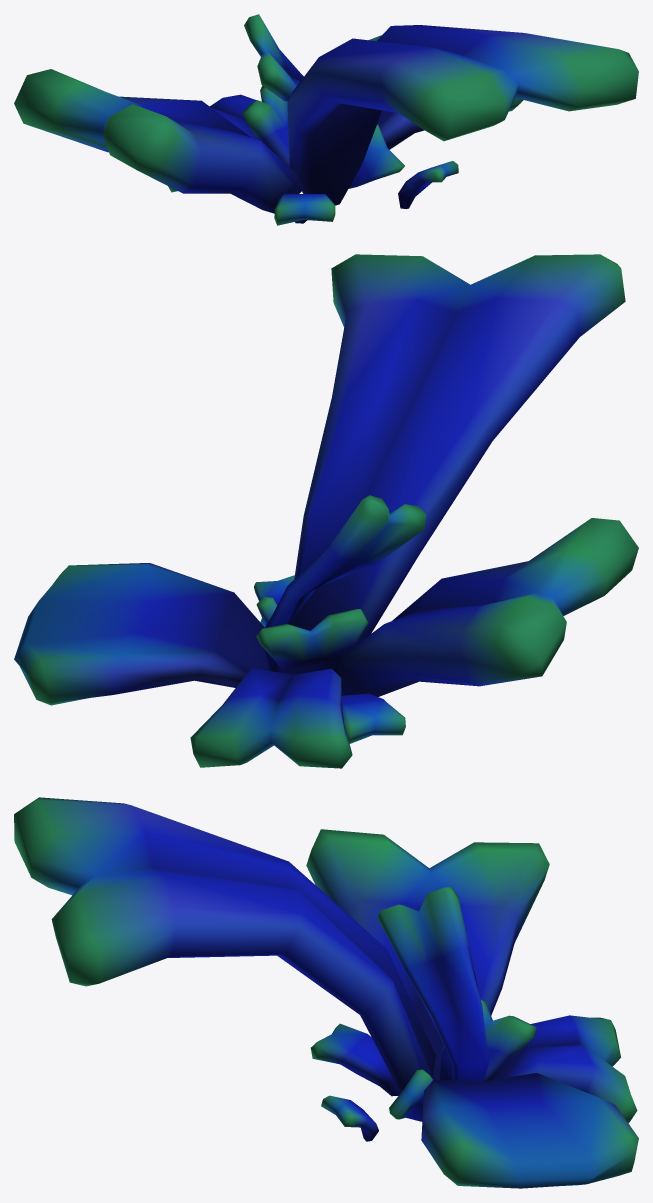
Rendered from Alien_Grass02.fbx.
3 renders of one model, top to bottom at view 1: azimuth 30°, elevation 25°; view 2: azimuth 150°, elevation 25°; view 3: azimuth 270°, elevation 25°, orthographic. The views are drawn at different scales.
Parts seen in each view (by area): view 1: Alien_Grass02; view 2: Alien_Grass02; view 3: Alien_Grass02.
Part boxes in pixels (x1,y1,x2,y2): Alien_Grass02: (14, 14, 638, 225); Alien_Grass02: (14, 254, 638, 768); Alien_Grass02: (14, 797, 638, 1188).
Bounding box in the file's own units: 4104 × 2311 × 4531.
